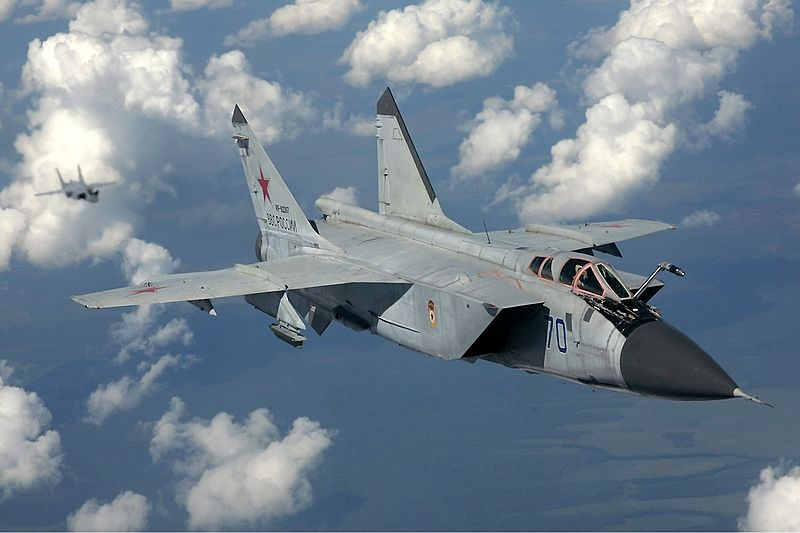Aeronef_militaire: (70, 79, 784, 418), (28, 161, 123, 208)
